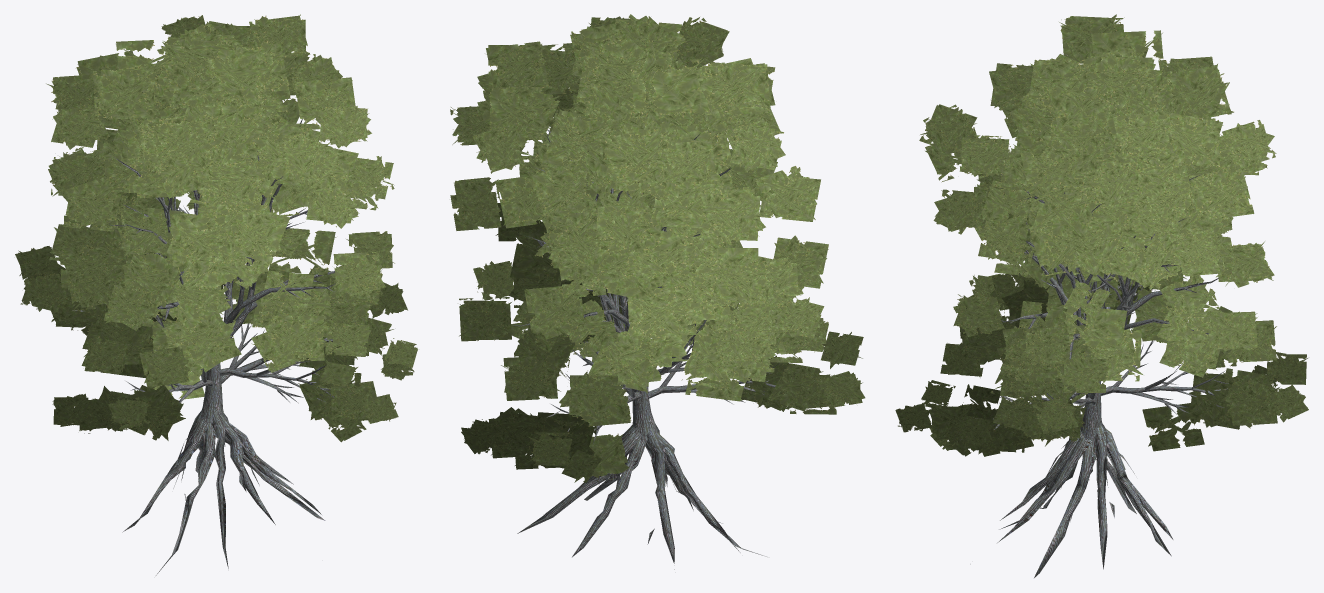
The model's file is eu43-7-mass.glb.
3 renders of one model, left to right at view 1: azimuth 30°, elevation 25°; view 2: azimuth 150°, elevation 25°; view 3: azimuth 270°, elevation 25°, orthographic. The views are drawn at different scales.
Bounding box in the file's own units: 558 × 745 × 559.
Materials: 2 (2 with a texture image).
